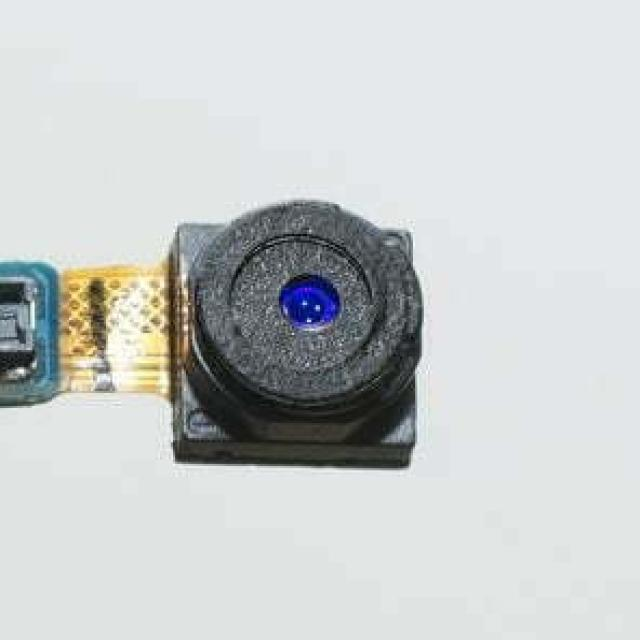hidden camera: (166, 208, 439, 451)
